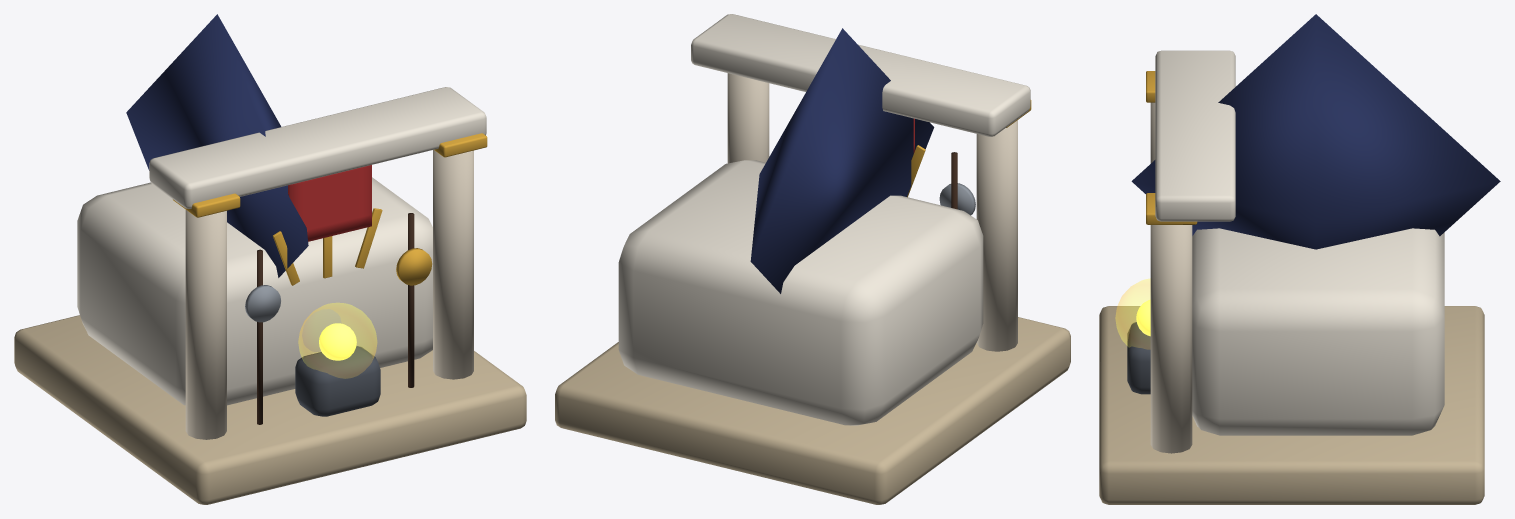
Rendered from artefacterie.glb.
3 renders of one model, left to right at view 1: azimuth 30°, elevation 25°; view 2: azimuth 150°, elevation 25°; view 3: azimuth 270°, elevation 25°, orthographic.
Parts seen in each view (by area): view 1: marble, stone, marble2, navy, iron, sun_veil, team, gold, wood_dark, sun.001, steel; view 2: marble, stone, navy, marble2, steel; view 3: marble, navy, stone, marble2, sun_veil, iron, gold.
Boxes of the visible parts, x1,y1,x2,y2 form: marble: [77, 87, 486, 405]; stone: [14, 315, 526, 504]; marble2: [185, 150, 473, 439]; navy: [126, 14, 308, 277]; iron: [295, 346, 380, 416]; sun_veil: [298, 303, 377, 378]; team: [288, 165, 371, 241]; gold: [173, 133, 487, 285]; wood_dark: [257, 213, 414, 424]; sun.001: [319, 323, 356, 360]; steel: [245, 285, 280, 322]; marble: [618, 14, 1030, 425]; stone: [555, 317, 1070, 504]; navy: [750, 28, 934, 293]; marble2: [727, 73, 1017, 351]; steel: [939, 183, 975, 215]; marble: [1155, 50, 1444, 435]; navy: [1131, 14, 1500, 249]; stone: [1099, 306, 1484, 504]; marble2: [1150, 102, 1192, 453]; sun_veil: [1115, 278, 1150, 348]; iron: [1127, 322, 1150, 394]; gold: [1146, 71, 1197, 224].
Bounding box in the file's own units: 2.4 × 2.7 × 2.5.
